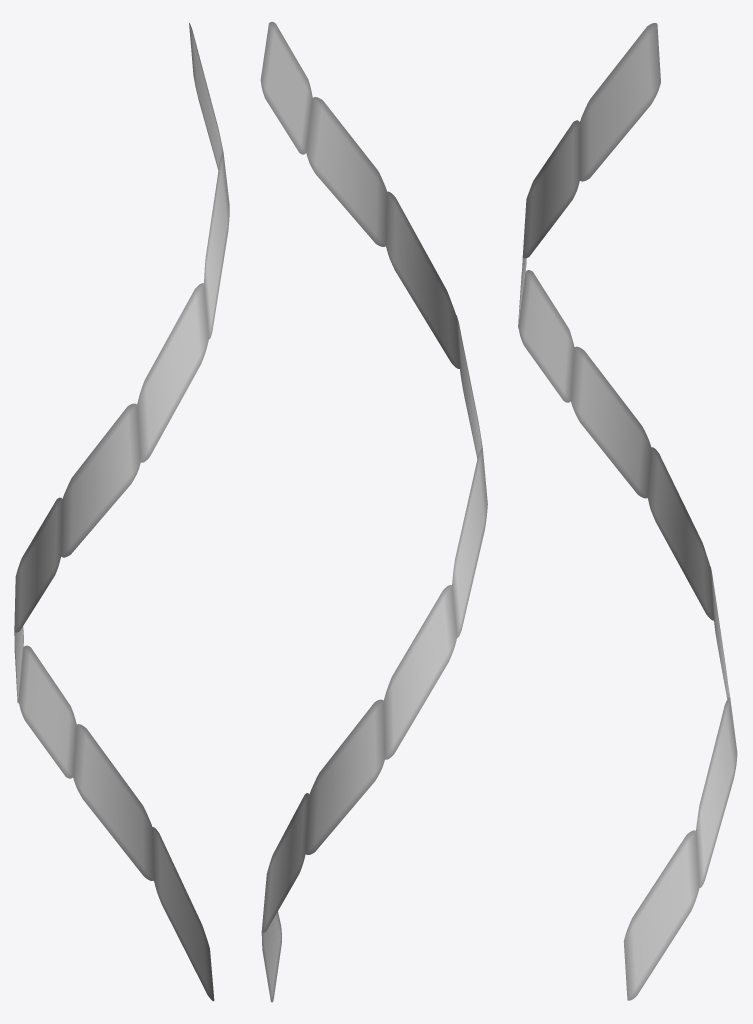
3 views of the same model, side by side, from view 1: azimuth 30°, elevation 25°; view 2: azimuth 150°, elevation 25°; view 3: azimuth 270°, elevation 25° (orthographic). The views are drawn at different scales.
Parts seen in each view (by area): view 1: T1L2M007_27; view 2: T1L2M007_27; view 3: T1L2M007_27.
Part boxes in pixels (box(x1,y1,x2,y2)): T1L2M007_27: box(14, 23, 229, 1001); T1L2M007_27: box(260, 21, 487, 1002); T1L2M007_27: box(518, 23, 737, 1000).
Size of the model in its own units: 0.0449 by 0.2217 by 0.0449.
1 material, 1 textured.
